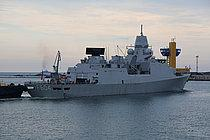MIL_Ship: (26, 33, 193, 96)
